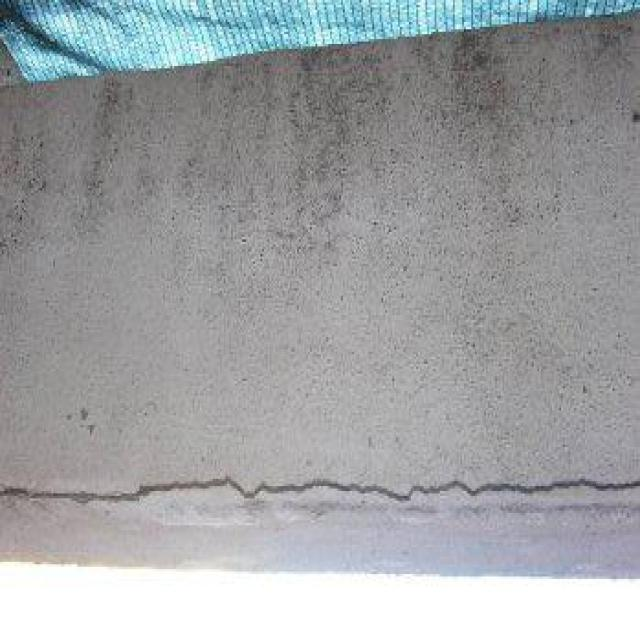crack: (0, 475, 638, 505)
